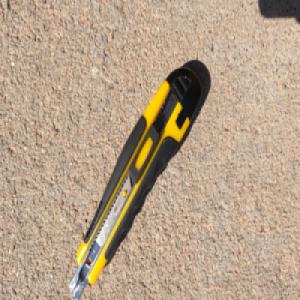Cutter: (67, 64, 203, 300)
